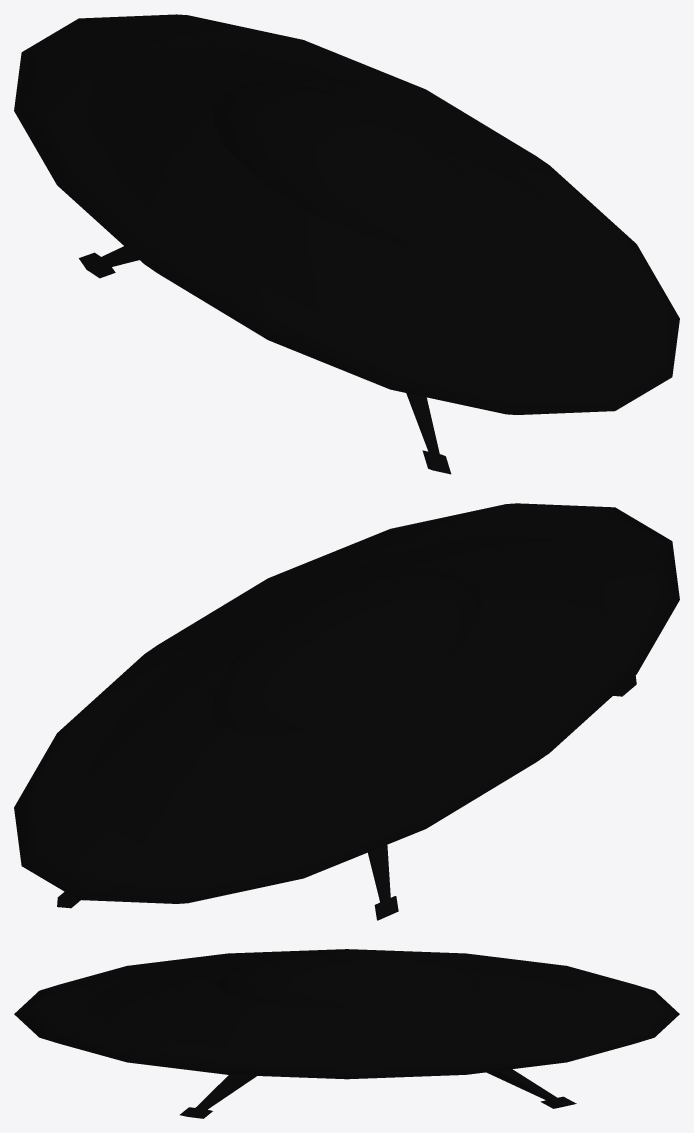
The model's file is RaceBoat.glb.
3 views of the same model, one above another, from view 1: azimuth 30°, elevation 25°; view 2: azimuth 150°, elevation 25°; view 3: azimuth 270°, elevation 25° (orthographic). The views are drawn at different scales.
Visible parts, largest first — view 1: Mesh.028; view 2: Mesh.028; view 3: Mesh.028.
Boxes of the visible parts, <box> form: Mesh.028: <box>14,14,679,474</box>; Mesh.028: <box>14,503,679,920</box>; Mesh.028: <box>14,949,679,1118</box>.
Size of what is drawn, in the model's own units: 2.3 by 0.9673 by 5.28.
1 material, 1 textured.
